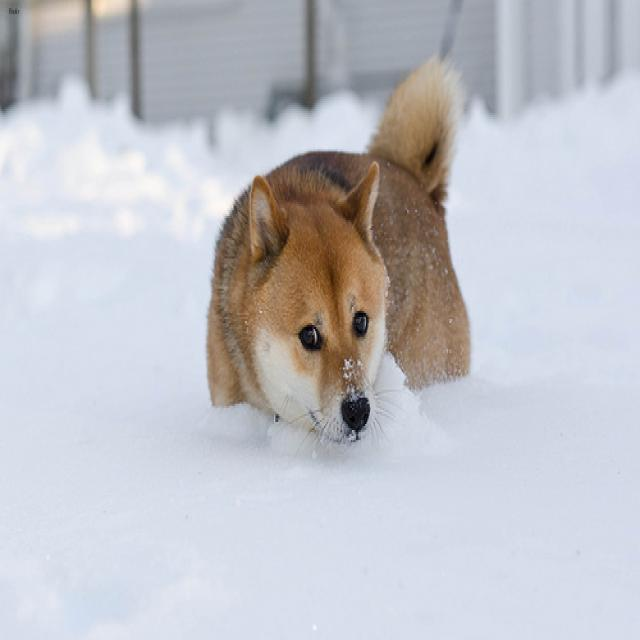dog-shiba_inu: (197, 46, 483, 454)
